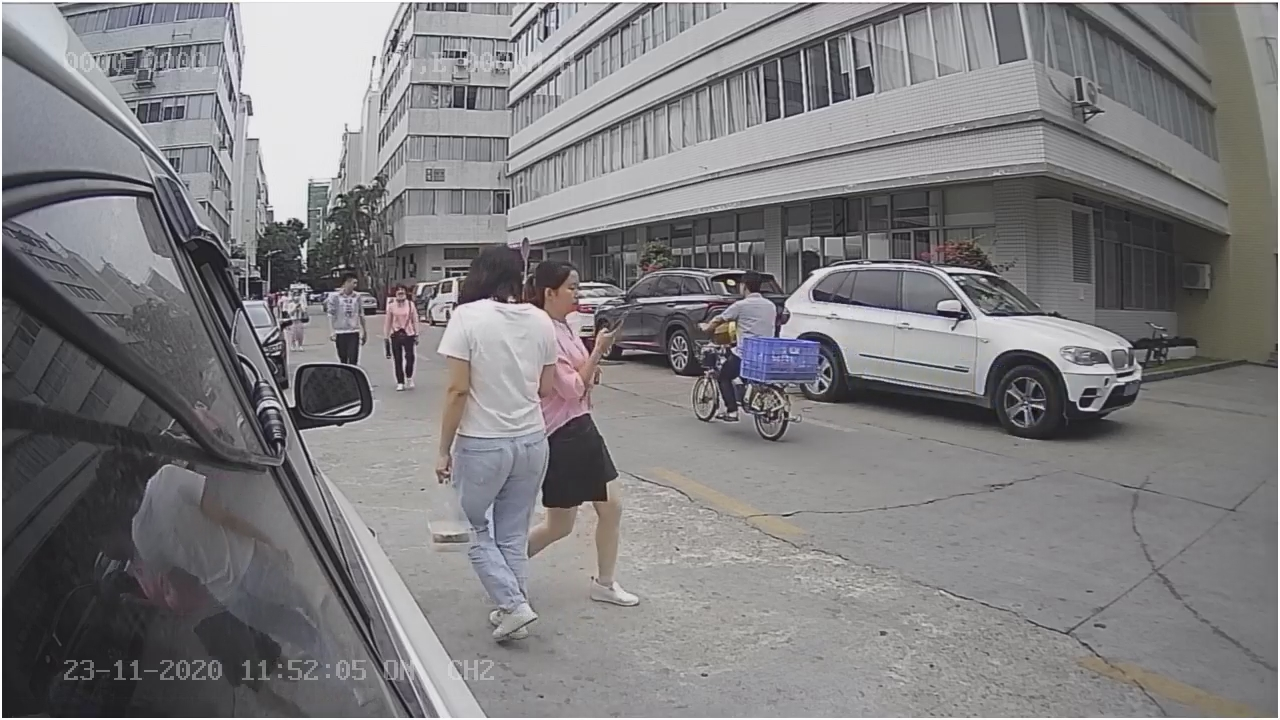person: (425, 243, 549, 639), (700, 258, 775, 339)
